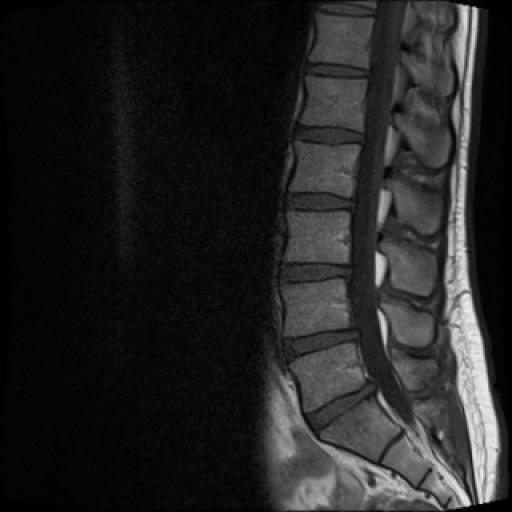L1: (300, 78, 366, 132)
L2: (290, 144, 360, 198)
L3: (287, 211, 348, 264)
L4: (282, 279, 350, 336)
L5: (290, 343, 366, 412)
S1: (318, 396, 402, 462)
